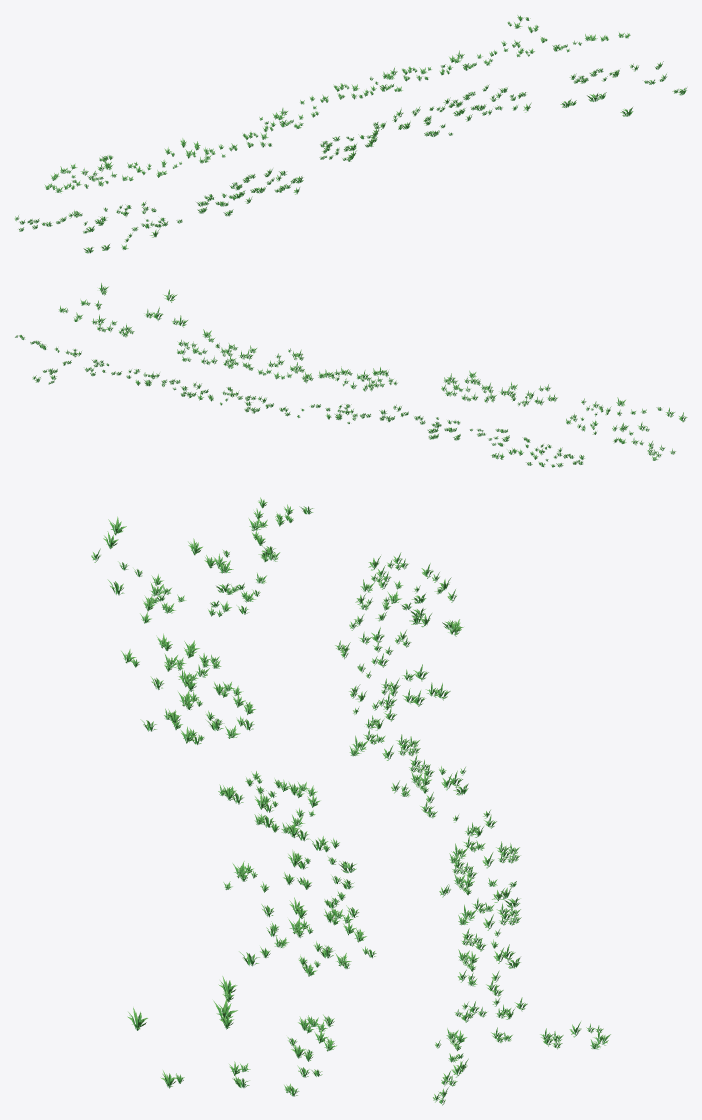
Rendered from Area_10_35.fbx.
3 views of the same model, one above another, from view 1: azimuth 30°, elevation 25°; view 2: azimuth 150°, elevation 25°; view 3: azimuth 270°, elevation 25° (orthographic). The views are drawn at different scales.
Visible parts, largest first — view 1: Area_10_35; view 2: Area_10_35; view 3: Area_10_35.
Boxes of the visible parts, x1,y1,x2,y2 form: Area_10_35: [14, 15, 686, 253]; Area_10_35: [15, 283, 687, 467]; Area_10_35: [91, 497, 610, 1105].
Bounding box in the file's own units: 8973 × 151 × 3283.
